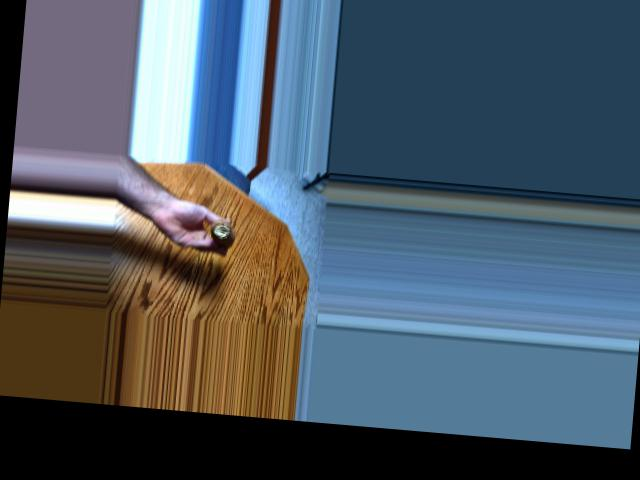sweet_potato: (211, 217, 240, 242)
